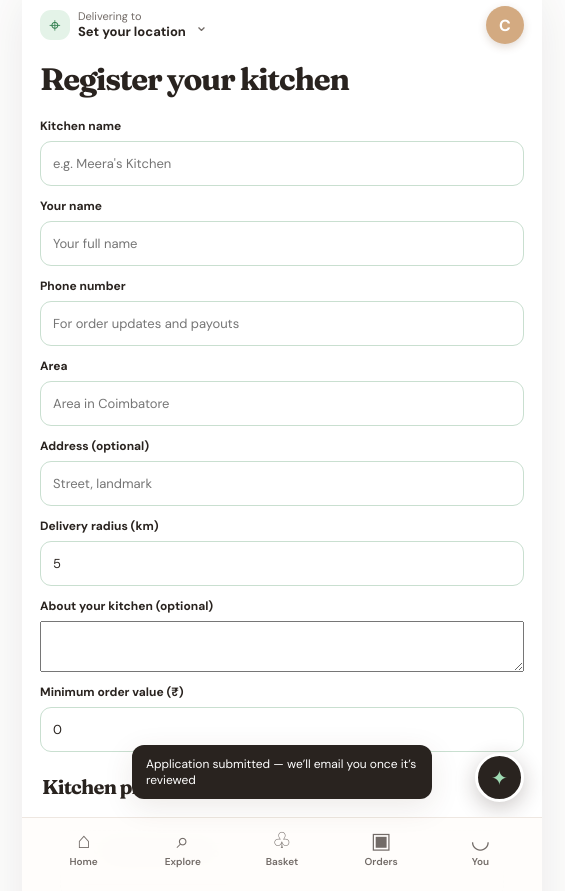
Kitchen registration flow (customer submits a real application) › refuses to submit without at least one kitchen photo
This screenshot has width=565, height=891.
Check: the heading "Register your kitchen" is shown, box x1=40 y1=63 x2=349 y2=96
Type "Meera's Kitchen" into the field labelled "Kitchen name" at (282, 163), box x1=40 y1=140 x2=524 y2=186
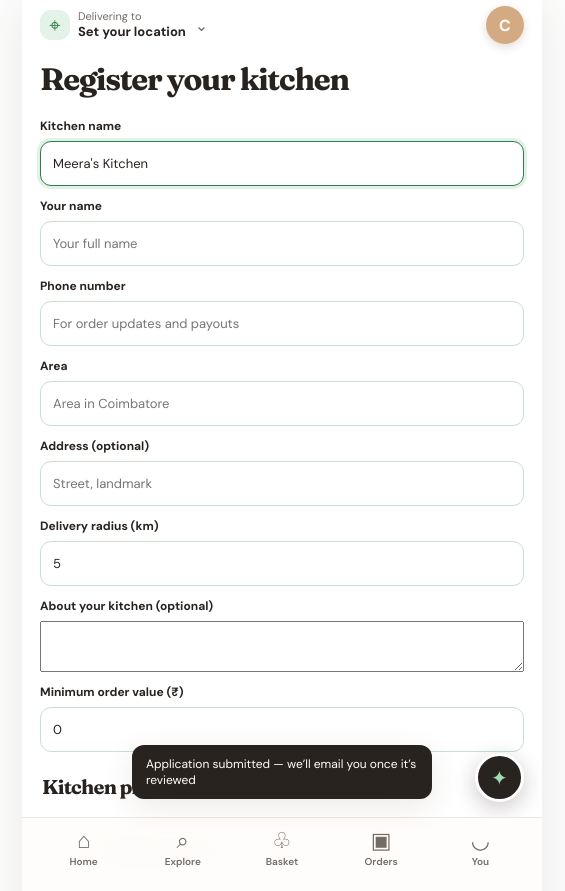
Type "Meera Krishnan" into the field labelled "Your name" at (282, 243), box x1=40 y1=220 x2=524 y2=266
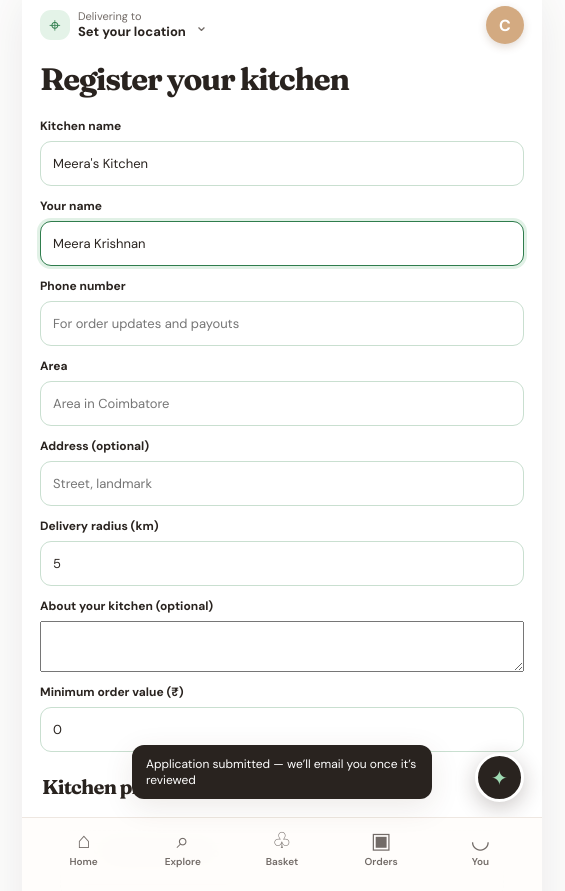
Type "9876543210" into the field labelled "Phone number" at (282, 323), box x1=40 y1=300 x2=524 y2=346
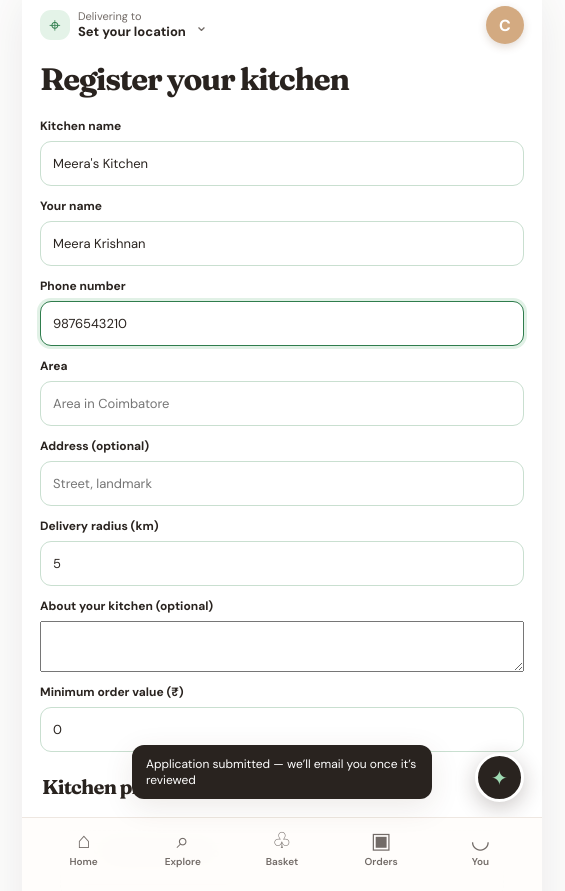
Type "RS Puram" into the field labelled "Area" at (282, 403), box x1=40 y1=380 x2=524 y2=426
(page scrolled)
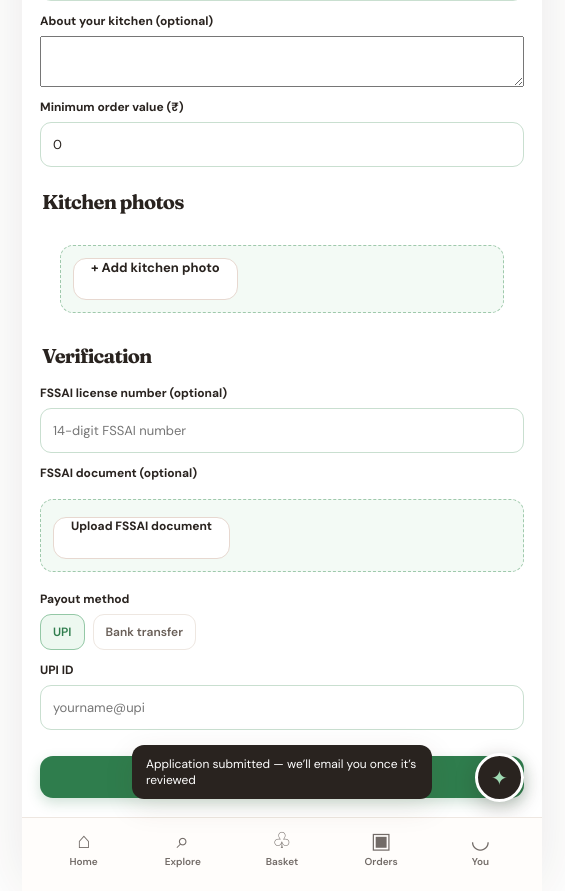
Type "meera@upi" into the field labelled "UPI ID" at (282, 707), box x1=40 y1=684 x2=524 y2=730
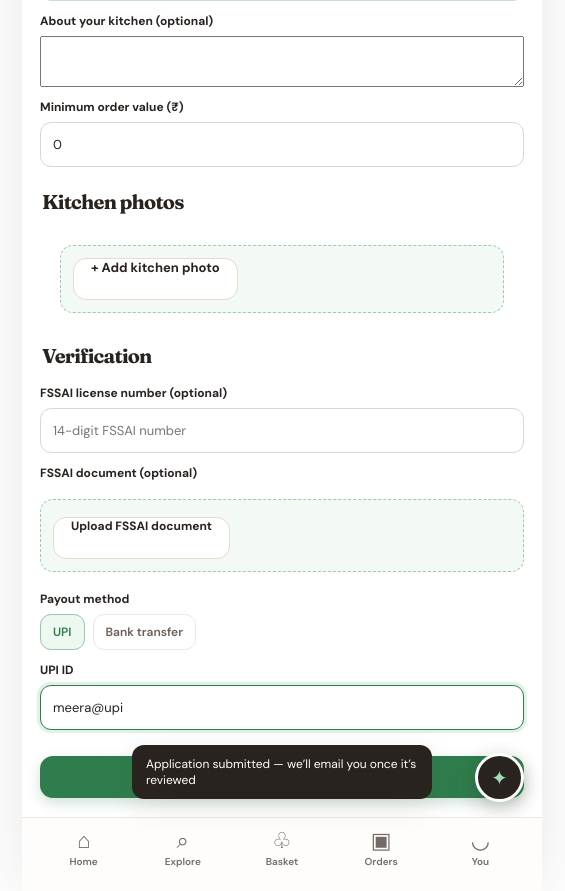
Click the button "Submit for verification" at (282, 776), box x1=40 y1=756 x2=524 y2=798
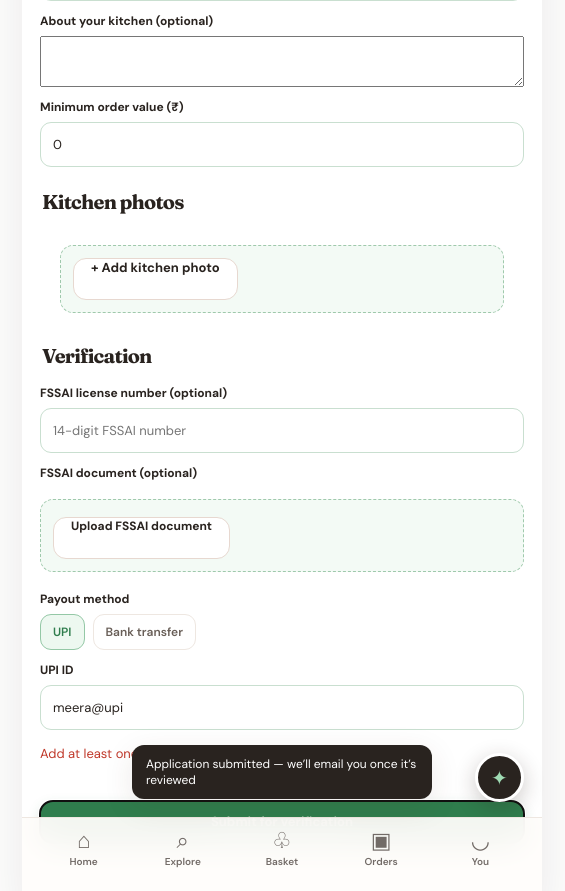
Check: the message "Add at least one kitchen photo." is shown, box x1=40 y1=744 x2=228 y2=762
